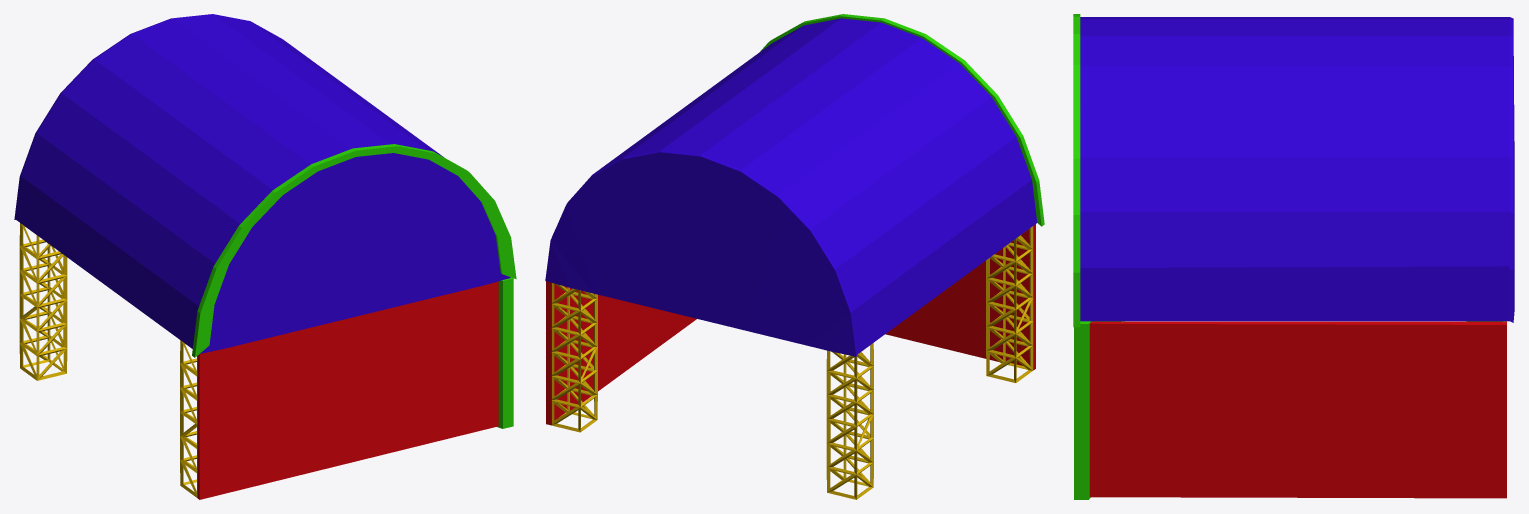
The model's file is warehouse.fbx.
3 views of the same model, side by side, from view 1: azimuth 30°, elevation 25°; view 2: azimuth 150°, elevation 25°; view 3: azimuth 270°, elevation 25° (orthographic). The views are drawn at different scales.
Parts seen in each view (by area): view 1: Warehouse_Cube.007; view 2: Warehouse_Cube.007; view 3: Warehouse_Cube.007.
Boxes of the visible parts, x1,y1,x2,y2 form: Warehouse_Cube.007: (14,14,516,499); Warehouse_Cube.007: (545,14,1044,499); Warehouse_Cube.007: (1073,14,1514,499).
Bounding box in the file's own units: 1159 × 1083 × 1158.
